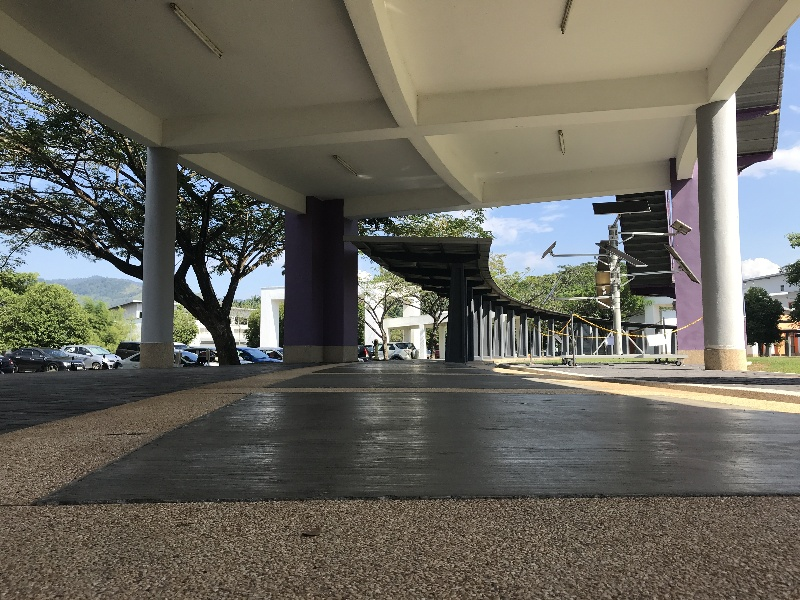pillar: (685, 102, 764, 403), (270, 190, 367, 363), (135, 138, 174, 387), (442, 262, 482, 373)
